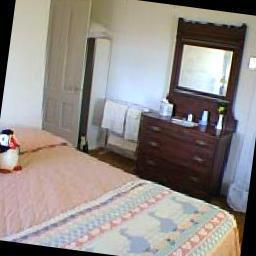Puerta: (36, 0, 96, 140)
